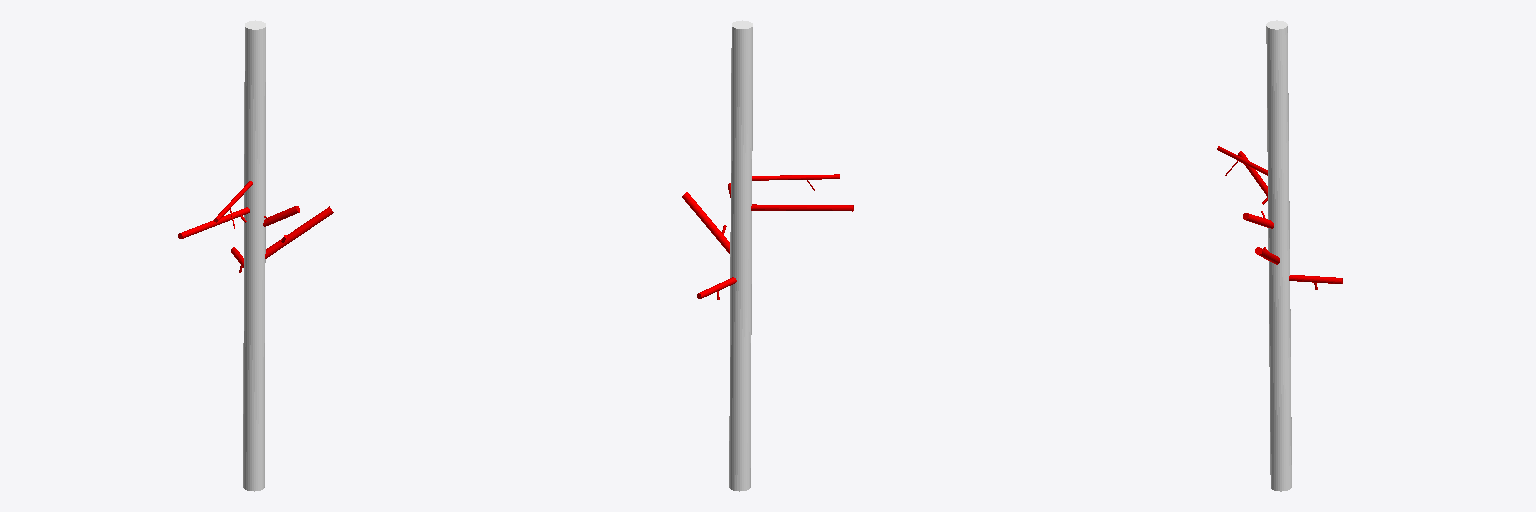
robot.urdf — tree_32.urdf:
<?xml version='1.0' encoding='UTF-8'?>
<robot name="tree_32.urdf">
  <link name="branch_0">
    <inertial>
      <origin xyz="0.0 0.0 0.0" rpy="0.0 -0.0 0.0"/>
      <mass value="0.1"/>
      <inertia ixx="0.001" ixy="0.0" ixz="0.0" iyy="0.001" iyz="0.0" izz="0.001"/>
    </inertial>
    <visual name="branch_0_visual">
      <geometry>
        <cylinder radius="0.16523233723501635" length="7.7847623491602285"/>
      </geometry>
      <material name="branch_material"/>
      <origin xyz="-0.003321746743074827 -0.03271171289110431 3.892242299506028" rpy="-1.0842021724855044e-19 0.008447355260798402 -1.6719955320810869"/>
    </visual>
    <collision name="branch_0_collision">
      <geometry>
        <cylinder radius="0.16523233723501635" length="7.7847623491602285"/>
      </geometry>
      <origin xyz="-0.003321746743074827 -0.03271171289110431 3.892242299506028" rpy="-1.0842021724855044e-19 0.008447355260798402 -1.6719955320810869"/>
    </collision>
  </link>
  <link name="branch_1">
    <inertial>
      <origin xyz="0.0 0.0 0.0" rpy="0.0 -0.0 0.0"/>
      <mass value="0.1"/>
      <inertia ixx="0.001" ixy="0.0" ixz="0.0" iyy="0.001" iyz="0.0" izz="0.001"/>
    </inertial>
    <visual name="branch_1_visual">
      <geometry>
        <cylinder radius="0.05906568542428292" length="0.7994712360816632"/>
      </geometry>
      <material name="semantic_material"/>
      <origin xyz="0.0 0.0 0.0" rpy="0.0 -0.0 0.0"/>
    </visual>
    <collision name="branch_1_collision">
      <geometry>
        <cylinder radius="0.05906568542428292" length="0.7994712360816632"/>
      </geometry>
      <origin xyz="0.0 0.0 0.0" rpy="0.0 -0.0 0.0"/>
    </collision>
  </link>
  <link name="branch_2">
    <inertial>
      <origin xyz="0.0 0.0 0.0" rpy="0.0 -0.0 0.0"/>
      <mass value="0.1"/>
      <inertia ixx="0.001" ixy="0.0" ixz="0.0" iyy="0.001" iyz="0.0" izz="0.001"/>
    </inertial>
    <visual name="branch_2_visual">
      <geometry>
        <cylinder radius="0.014000716905686552" length="0.20940544505139558"/>
      </geometry>
      <material name="semantic_material"/>
      <origin xyz="0.0 0.0 0.0" rpy="0.0 -0.0 0.0"/>
    </visual>
    <collision name="branch_2_collision">
      <geometry>
        <cylinder radius="0.014000716905686552" length="0.20940544505139558"/>
      </geometry>
      <origin xyz="0.0 0.0 0.0" rpy="0.0 -0.0 0.0"/>
    </collision>
  </link>
  <link name="branch_3">
    <inertial>
      <origin xyz="0.0 0.0 0.0" rpy="0.0 -0.0 0.0"/>
      <mass value="0.1"/>
      <inertia ixx="0.001" ixy="0.0" ixz="0.0" iyy="0.001" iyz="0.0" izz="0.001"/>
    </inertial>
    <visual name="branch_3_visual">
      <geometry>
        <cylinder radius="0.04952177874396959" length="0.9779568575901729"/>
      </geometry>
      <material name="semantic_material"/>
      <origin xyz="0.0 0.0 0.0" rpy="0.0 -0.0 0.0"/>
    </visual>
    <collision name="branch_3_collision">
      <geometry>
        <cylinder radius="0.04952177874396959" length="0.9779568575901729"/>
      </geometry>
      <origin xyz="0.0 0.0 0.0" rpy="0.0 -0.0 0.0"/>
    </collision>
  </link>
  <link name="branch_4">
    <inertial>
      <origin xyz="0.0 0.0 0.0" rpy="0.0 -0.0 0.0"/>
      <mass value="0.1"/>
      <inertia ixx="0.001" ixy="0.0" ixz="0.0" iyy="0.001" iyz="0.0" izz="0.001"/>
    </inertial>
    <visual name="branch_4_visual">
      <geometry>
        <cylinder radius="0.019296394601546245" length="0.18969156194560252"/>
      </geometry>
      <material name="semantic_material"/>
      <origin xyz="0.0 0.0 0.0" rpy="0.0 -0.0 0.0"/>
    </visual>
    <collision name="branch_4_collision">
      <geometry>
        <cylinder radius="0.019296394601546245" length="0.18969156194560252"/>
      </geometry>
      <origin xyz="0.0 0.0 0.0" rpy="0.0 -0.0 0.0"/>
    </collision>
  </link>
  <link name="branch_5">
    <inertial>
      <origin xyz="0.0 0.0 0.0" rpy="0.0 -0.0 0.0"/>
      <mass value="0.1"/>
      <inertia ixx="0.001" ixy="0.0" ixz="0.0" iyy="0.001" iyz="0.0" izz="0.001"/>
    </inertial>
    <visual name="branch_5_visual">
      <geometry>
        <cylinder radius="0.0478828947122993" length="1.7508964753448484"/>
      </geometry>
      <material name="semantic_material"/>
      <origin xyz="0.0 0.0 0.0" rpy="0.0 -0.0 0.0"/>
    </visual>
    <collision name="branch_5_collision">
      <geometry>
        <cylinder radius="0.0478828947122993" length="1.7508964753448484"/>
      </geometry>
      <origin xyz="0.0 0.0 0.0" rpy="0.0 -0.0 0.0"/>
    </collision>
  </link>
  <link name="branch_6">
    <inertial>
      <origin xyz="0.0 0.0 0.0" rpy="0.0 -0.0 0.0"/>
      <mass value="0.1"/>
      <inertia ixx="0.001" ixy="0.0" ixz="0.0" iyy="0.001" iyz="0.0" izz="0.001"/>
    </inertial>
    <visual name="branch_6_visual">
      <geometry>
        <cylinder radius="0.017682519555878976" length="0.17614720266023734"/>
      </geometry>
      <material name="semantic_material"/>
      <origin xyz="0.0 0.0 0.0" rpy="0.0 -0.0 0.0"/>
    </visual>
    <collision name="branch_6_collision">
      <geometry>
        <cylinder radius="0.017682519555878976" length="0.17614720266023734"/>
      </geometry>
      <origin xyz="0.0 0.0 0.0" rpy="0.0 -0.0 0.0"/>
    </collision>
  </link>
  <link name="branch_7">
    <inertial>
      <origin xyz="0.0 0.0 0.0" rpy="0.0 -0.0 0.0"/>
      <mass value="0.1"/>
      <inertia ixx="0.001" ixy="0.0" ixz="0.0" iyy="0.001" iyz="0.0" izz="0.001"/>
    </inertial>
    <visual name="branch_7_visual">
      <geometry>
        <cylinder radius="0.03662957669885451" length="1.5124711708255765"/>
      </geometry>
      <material name="semantic_material"/>
      <origin xyz="0.0 0.0 0.0" rpy="0.0 -0.0 0.0"/>
    </visual>
    <collision name="branch_7_collision">
      <geometry>
        <cylinder radius="0.03662957669885451" length="1.5124711708255765"/>
      </geometry>
      <origin xyz="0.0 0.0 0.0" rpy="0.0 -0.0 0.0"/>
    </collision>
  </link>
  <link name="branch_8">
    <inertial>
      <origin xyz="0.0 0.0 0.0" rpy="0.0 -0.0 0.0"/>
      <mass value="0.1"/>
      <inertia ixx="0.001" ixy="0.0" ixz="0.0" iyy="0.001" iyz="0.0" izz="0.001"/>
    </inertial>
    <visual name="branch_8_visual">
      <geometry>
        <cylinder radius="0.01" length="0.366698549541815"/>
      </geometry>
      <material name="semantic_material"/>
      <origin xyz="0.0 0.0 0.0" rpy="0.0 -0.0 0.0"/>
    </visual>
    <collision name="branch_8_collision">
      <geometry>
        <cylinder radius="0.01" length="0.366698549541815"/>
      </geometry>
      <origin xyz="0.0 0.0 0.0" rpy="0.0 -0.0 0.0"/>
    </collision>
  </link>
  <link name="branch_9">
    <inertial>
      <origin xyz="0.0 0.0 0.0" rpy="0.0 -0.0 0.0"/>
      <mass value="0.1"/>
      <inertia ixx="0.001" ixy="0.0" ixz="0.0" iyy="0.001" iyz="0.0" izz="0.001"/>
    </inertial>
    <visual name="branch_9_visual">
      <geometry>
        <cylinder radius="0.06002629314565552" length="1.4189457608619598"/>
      </geometry>
      <material name="semantic_material"/>
      <origin xyz="0.0 0.0 0.0" rpy="0.0 -0.0 0.0"/>
    </visual>
    <collision name="branch_9_collision">
      <geometry>
        <cylinder radius="0.06002629314565552" length="1.4189457608619598"/>
      </geometry>
      <origin xyz="0.0 0.0 0.0" rpy="0.0 -0.0 0.0"/>
    </collision>
  </link>
  <link name="branch_10">
    <inertial>
      <origin xyz="0.0 0.0 0.0" rpy="0.0 -0.0 0.0"/>
      <mass value="0.1"/>
      <inertia ixx="0.001" ixy="0.0" ixz="0.0" iyy="0.001" iyz="0.0" izz="0.001"/>
    </inertial>
    <visual name="branch_10_visual">
      <geometry>
        <cylinder radius="0.02300935877440521" length="0.2081797312110491"/>
      </geometry>
      <material name="semantic_material"/>
      <origin xyz="0.0 0.0 0.0" rpy="0.0 -0.0 0.0"/>
    </visual>
    <collision name="branch_10_collision">
      <geometry>
        <cylinder radius="0.02300935877440521" length="0.2081797312110491"/>
      </geometry>
      <origin xyz="0.0 0.0 0.0" rpy="0.0 -0.0 0.0"/>
    </collision>
  </link>
  <joint name="joint_0_1" type="fixed">
    <parent link="branch_0"/>
    <child link="branch_1"/>
    <axis xyz="1. 0. 0."/>
    <origin xyz="0.23123195207623817 -0.2906343794486861 4.578411809088245" rpy="0.012679688224974006 1.045730713117111 -0.8093326734978412"/>
  </joint>
  <joint name="joint_0_3" type="fixed">
    <parent link="branch_0"/>
    <child link="branch_3"/>
    <axis xyz="1. 0. 0."/>
    <origin xyz="0.09046195902844012 0.450146031173765 3.5456879407114177" rpy="0.039407354066173975 1.5512711850733283 1.4178163708468974"/>
  </joint>
  <joint name="joint_0_5" type="fixed">
    <parent link="branch_0"/>
    <child link="branch_5"/>
    <axis xyz="1. 0. 0."/>
    <origin xyz="-0.8270006768865326 -0.3305062134997977 4.776235093525229" rpy="-0.09969801467088532 1.4939496071260014 -2.901790925218071"/>
  </joint>
  <joint name="joint_0_7" type="fixed">
    <parent link="branch_0"/>
    <child link="branch_7"/>
    <axis xyz="1. 0. 0."/>
    <origin xyz="-0.6083524750879634 -0.49801924806643294 5.168775077963976" rpy="-2.9709834318745285 1.5342624133986442 0.8157165218359926"/>
  </joint>
  <joint name="joint_0_9" type="fixed">
    <parent link="branch_0"/>
    <child link="branch_9"/>
    <axis xyz="1. 0. 0."/>
    <origin xyz="0.5840192411939634 -0.18982659082665426 4.15863463055732" rpy="0.01619851701752134 1.0296359764304335 -0.24384176675276872"/>
  </joint>
  <joint name="joint_1_2" type="fixed">
    <parent link="branch_0"/>
    <child link="branch_2"/>
    <axis xyz="1. 0. 0."/>
    <origin xyz="0.09377080217293209 -0.2597322103738515 4.587878493850847" rpy="-0.8272097154088266 0.4410504261788527 2.425926946409573"/>
  </joint>
  <joint name="joint_3_4" type="fixed">
    <parent link="branch_0"/>
    <child link="branch_4"/>
    <axis xyz="1. 0. 0."/>
    <origin xyz="0.08437655648132679 0.5222525476443772 3.4551261403327462" rpy="2.927402275918755 0.14990946663669374 -1.7914724111263867"/>
  </joint>
  <joint name="joint_5_6" type="fixed">
    <parent link="branch_0"/>
    <child link="branch_6"/>
    <axis xyz="1. 0. 0."/>
    <origin xyz="-0.32776527764237795 -0.22718368027858454 4.684202211287767" rpy="2.231209525861462 -0.01495978238418239 0.457811516229402"/>
  </joint>
  <joint name="joint_7_8" type="fixed">
    <parent link="branch_0"/>
    <child link="branch_8"/>
    <axis xyz="1. 0. 0."/>
    <origin xyz="-0.8078661845133959 -0.74420819293497 5.0131447891239835" rpy="2.6133013675305565 0.3749992044994321 0.4152705134323456"/>
  </joint>
  <joint name="joint_9_10" type="fixed">
    <parent link="branch_0"/>
    <child link="branch_10"/>
    <axis xyz="1. 0. 0."/>
    <origin xyz="0.40908122849372813 -0.20268236785295243 4.134442530892549" rpy="-0.6109919122618491 0.07562364208907331 -3.0247683490016906"/>
  </joint>
  <material name="branch_material">
    <color rgba="1. 1. 1. 1."/>
  </material>
  <material name="semantic_material">
    <color rgba="1. 0. 0. 1."/>
  </material>
</robot>

--- Facts derived from the render (not from the file) ---
The picture shows the robot from 3 angles, left to right: view 1: azimuth 30°, elevation 25°; view 2: azimuth 150°, elevation 25°; view 3: azimuth 270°, elevation 25°; orthographic projection.
Model tree_32.urdf with 11 links and 10 joints (10 fixed), rooted at branch_0, posed all joints at 0.
Links seen in each view (by area): view 1: branch_0, branch_9; view 2: branch_0, branch_5, branch_9; view 3: branch_0.
Boxes of the visible links, x1,y1,x2,y2 form: branch_0: [243, 20, 265, 491]; branch_9: [265, 206, 333, 258]; branch_0: [729, 20, 752, 491]; branch_5: [751, 204, 853, 211]; branch_9: [682, 192, 729, 253]; branch_0: [1266, 20, 1291, 491].
Bounding box of the posed robot: 2.87 × 1.92 × 7.79 m (x, y, z).
Geometry: primitives only (box / cylinder / sphere), no mesh files.